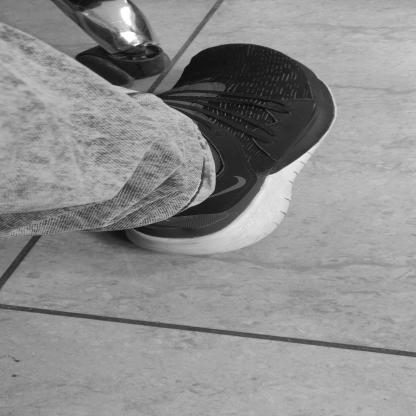ankle: (227, 176, 236, 180)
heel: (170, 245, 178, 249)
pinky: (297, 69, 305, 72)
right_foot: (125, 44, 338, 256)
toe: (198, 58, 206, 62)
